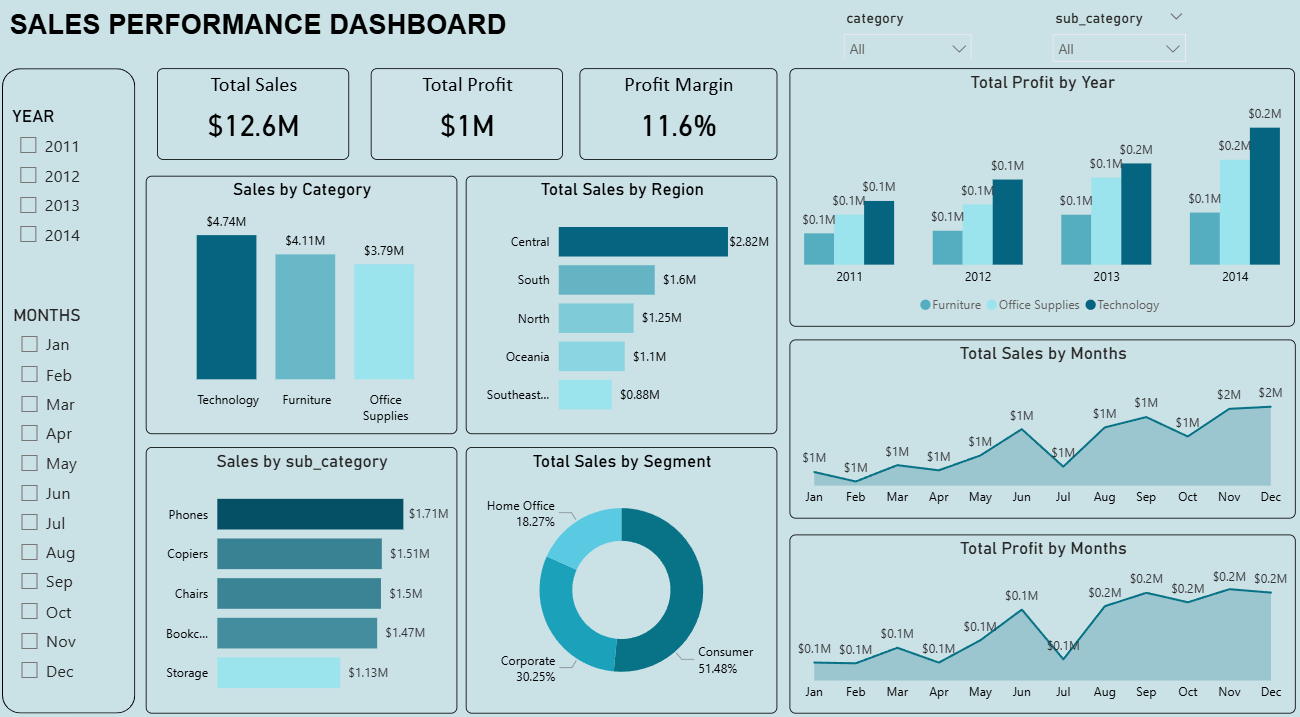

Layout of this report page (visuals, bound fields, positions):
{"tool":"powerbi","page":{"name":"Page 1","canvas":[1280,720],"ordinal":0},"visuals":[{"type":"card","title":"Total Sales","fields":{"Values":["SuperStoreOrders.total_sales"]},"box":[156.5,74.6,188.3,89.3],"z":0},{"type":"card","title":"Total Profit","fields":{"Values":["SuperStoreOrders.Total Profit"]},"box":[365.6,74.6,188.3,89.3],"z":1000},{"type":"card","title":"Profit Margin ","fields":{"Values":["SuperStoreOrders.Profit Margin"]},"box":[569.8,74.6,193.2,89.3],"z":2000},{"type":"textbox","box":[0,12.4,794.7,44.1],"z":3000},{"type":"clusteredColumnChart","title":"Total Profit by Year","fields":{"Category":["SuperStoreOrders.order_date.Variation.Date Hierarchy.Year"],"Y":["SuperStoreOrders.Total Profit"],"Series":["SuperStoreOrders.category"]},"box":[775.3,74.6,494,253.1],"z":4000},{"type":"columnChart","title":"Sales by Category","fields":{"Category":["SuperStoreOrders.category"],"Y":["SuperStoreOrders.Total Sales"]},"box":[145.5,179.8,304.5,253.1],"z":5000},{"type":"clusteredBarChart","title":" Sales by sub_category","fields":{"Category":["SuperStoreOrders.sub_category"],"Y":["SuperStoreOrders.Total Sales"]},"box":[145.5,445.1,304.5,260.5],"z":6000},{"type":"donutChart","title":"Total Sales by Segment ","fields":{"Category":["SuperStoreOrders.segment"],"Y":["SuperStoreOrders.Total Sales"]},"box":[458.6,445.1,304.5,260.5],"z":7000},{"type":"shape","box":[5.5,74.1,130.4,631.2],"z":8000},{"type":"slicer","title":"MONTHS","fields":{"Values":["SuperStoreOrders.months"]},"box":[11,306,124.9,392.5],"z":9000},{"type":"slicer","title":"YEAR","fields":{"Values":["SuperStoreOrders.year"]},"box":[9.6,111.1,123.5,179.8],"z":10000},{"type":"areaChart","title":"Total Sales by Months","fields":{"Category":["SuperStoreOrders.months"],"Y":["SuperStoreOrders.Total Sales"]},"box":[775.3,340,495,175],"z":11000},{"type":"areaChart","title":"Total Profit by Months","fields":{"Category":["SuperStoreOrders.months"],"Y":["SuperStoreOrders.Total Profit"]},"box":[775.3,530.7,495.2,174.9],"z":12000},{"type":"slicer","fields":{"Values":["SuperStoreOrders.sub_category"]},"box":[1022.3,12.2,150.4,62.4],"z":13000},{"type":"slicer","fields":{"Values":["SuperStoreOrders.category"]},"box":[818.1,12.2,145.5,53.8],"z":14000},{"type":"clusteredBarChart","title":"Total Sales by Region","fields":{"Category":["SuperStoreOrders.region"],"Y":["SuperStoreOrders.Total Sales"]},"box":[458,179.3,304.9,252.5],"z":15000}]}

Visuals, with their boxes in screenshot pixels (x1, y1, x2, y2), scaled from the page's 1280x720 canvas onto the 1300x717 screenshot:
"Total Sales" card: BBox(159, 74, 350, 163)
"Total Profit" card: BBox(371, 74, 563, 163)
"Profit Margin " card: BBox(579, 74, 775, 163)
textbox: BBox(0, 12, 807, 56)
"Total Profit by Year" clusteredColumnChart: BBox(787, 74, 1289, 326)
"Sales by Category" columnChart: BBox(148, 179, 457, 431)
" Sales by sub_category" clusteredBarChart: BBox(148, 443, 457, 703)
"Total Sales by Segment " donutChart: BBox(466, 443, 775, 703)
shape: BBox(6, 74, 138, 702)
"MONTHS" slicer: BBox(11, 305, 138, 696)
"YEAR" slicer: BBox(10, 111, 135, 290)
"Total Sales by Months" areaChart: BBox(787, 339, 1290, 513)
"Total Profit by Months" areaChart: BBox(787, 528, 1290, 703)
slicer - SuperStoreOrders.sub_category: BBox(1038, 12, 1191, 74)
slicer - SuperStoreOrders.category: BBox(831, 12, 979, 66)
"Total Sales by Region" clusteredBarChart: BBox(465, 179, 775, 430)
